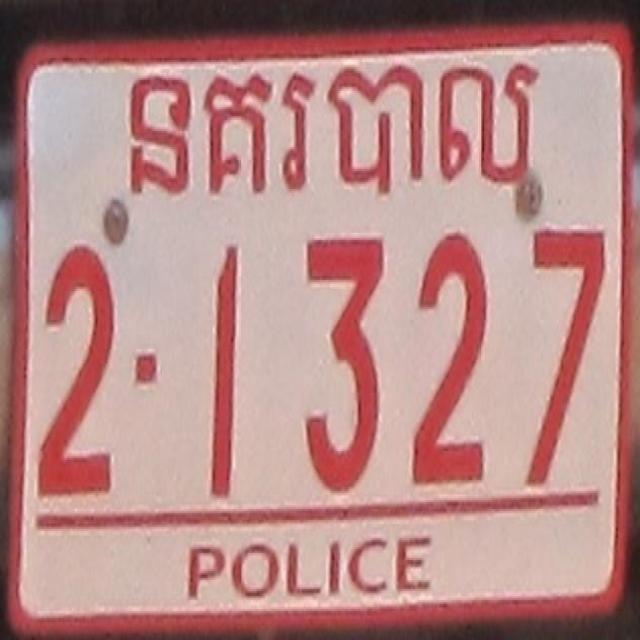Police: (130, 67, 532, 208)
